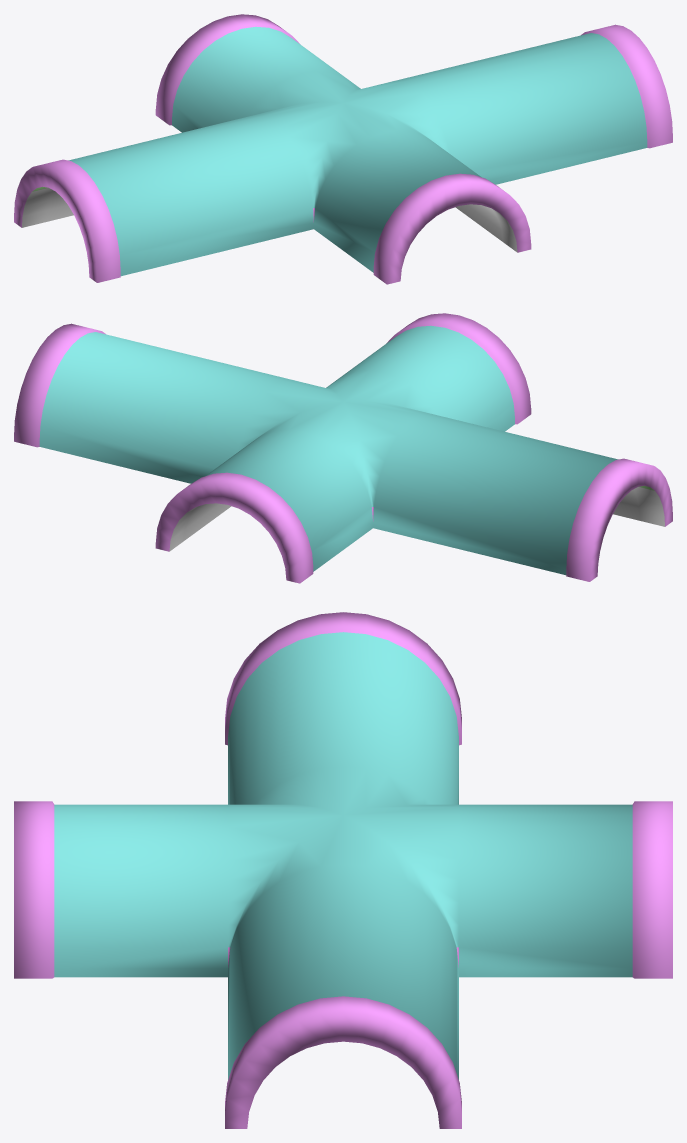
File: CrawlSpace.fbx
3 views of the same model, one above another, from view 1: azimuth 30°, elevation 25°; view 2: azimuth 150°, elevation 25°; view 3: azimuth 270°, elevation 25° (orthographic). The views are drawn at different scales.
Visible parts, largest first — view 1: CrawlSpace; view 2: CrawlSpace; view 3: CrawlSpace.
Part boxes in pixels (bbox=[...]): CrawlSpace: bbox=[14, 14, 672, 284]; CrawlSpace: bbox=[14, 313, 672, 583]; CrawlSpace: bbox=[14, 612, 672, 1128].
Size of the model in its own units: 9.85 by 1.33 by 6.85.
